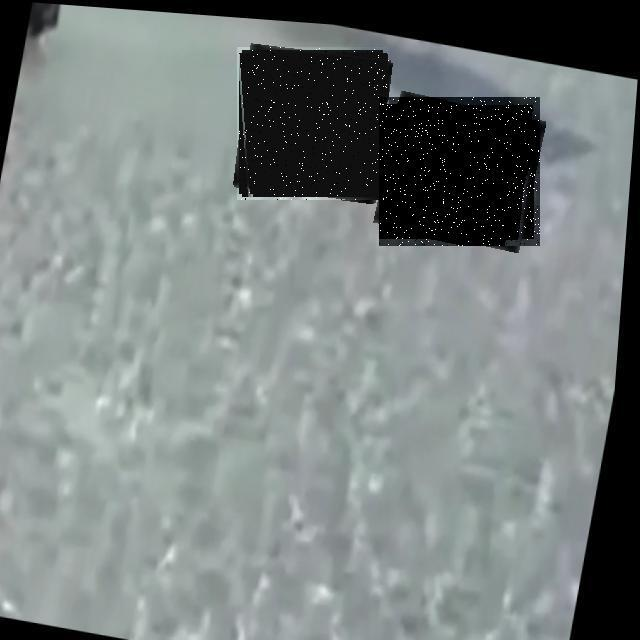swimming: (379, 97, 540, 246), (237, 47, 389, 200)
